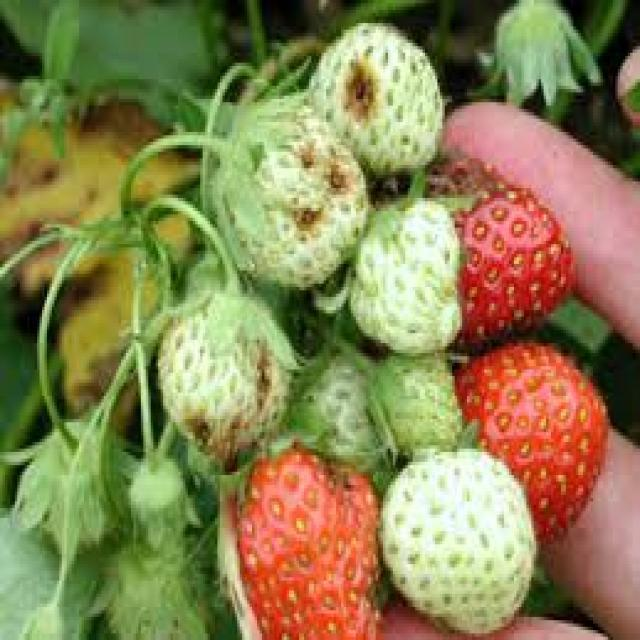Strawberry: (452, 336, 608, 544), (405, 154, 576, 342), (232, 438, 386, 636), (210, 104, 368, 292), (385, 450, 538, 631), (160, 293, 297, 452), (313, 24, 445, 172), (348, 197, 461, 353), (290, 354, 378, 469), (106, 545, 210, 640), (371, 352, 462, 454)
